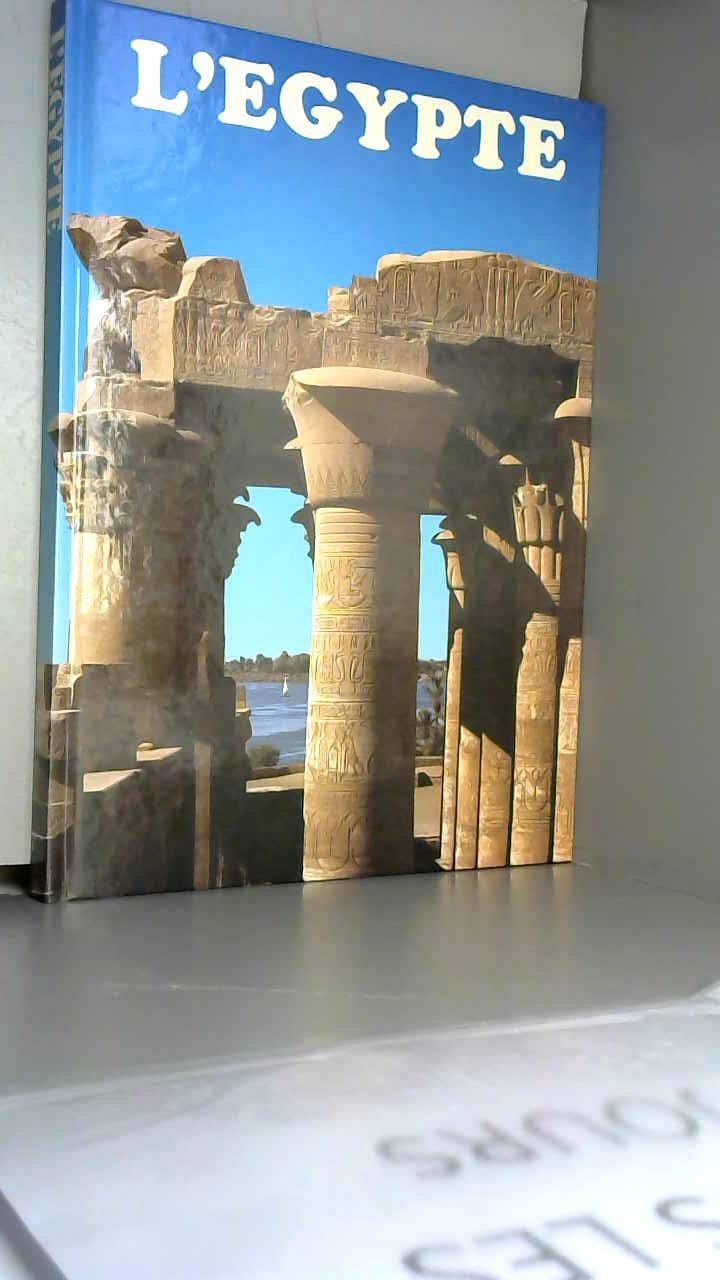book: (0, 0, 715, 940)
